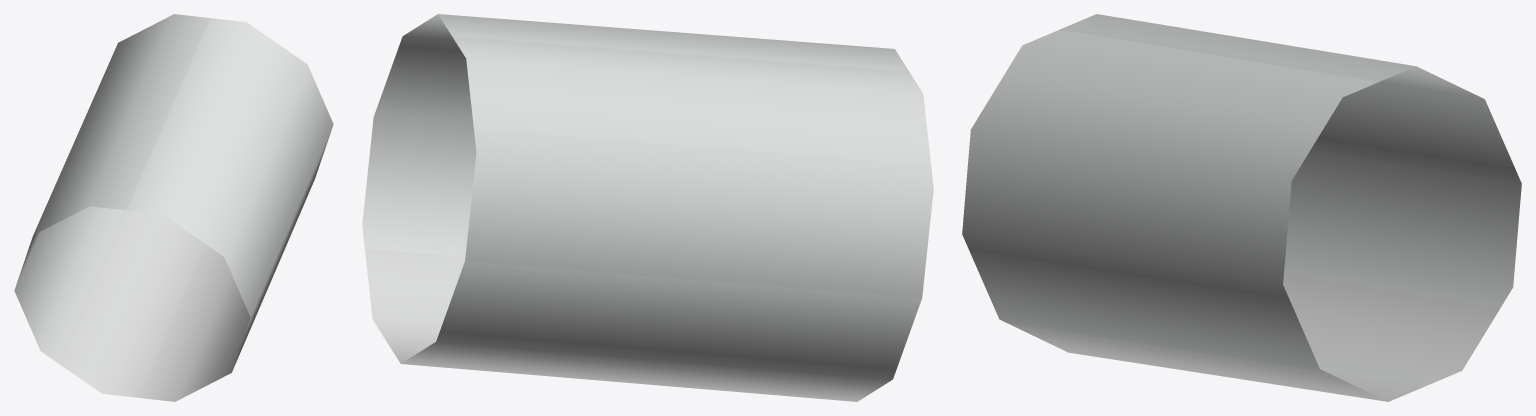
The model's file is nycsignalarm_diagonal12_c8.obj.
3 renders of one model, left to right at view 1: azimuth 30°, elevation 25°; view 2: azimuth 150°, elevation 25°; view 3: azimuth 270°, elevation 25°, orthographic. The views are drawn at different scales.
Parts seen in each view (by area): view 1: nycsignalarm_diagonal12_c8; view 2: nycsignalarm_diagonal12_c8; view 3: nycsignalarm_diagonal12_c8.
Part boxes in pixels (box(x1,y1,x2,y2)): nycsignalarm_diagonal12_c8: box(14, 14, 333, 401); nycsignalarm_diagonal12_c8: box(362, 14, 933, 401); nycsignalarm_diagonal12_c8: box(962, 14, 1521, 401).
Size of the model in its own units: 0.511 by 0.3735 by 0.511.
